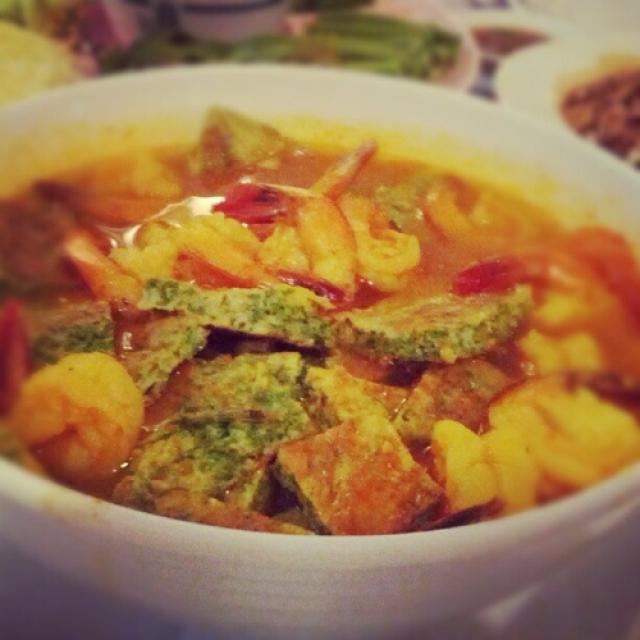汤锅炖物: (5, 64, 634, 576)
